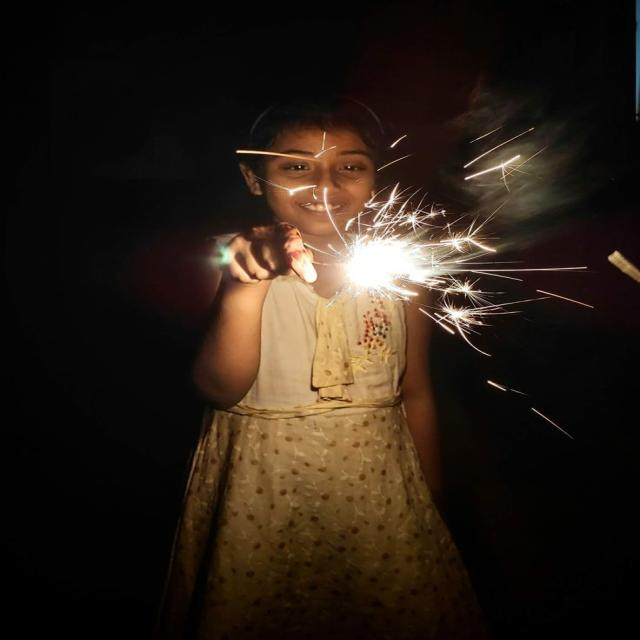fire: (341, 236, 447, 296)
